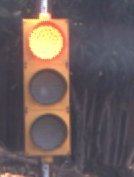Red: (17, 1, 81, 171)
